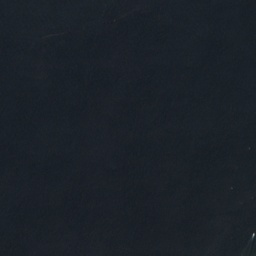Ship: (251, 231, 256, 239)
